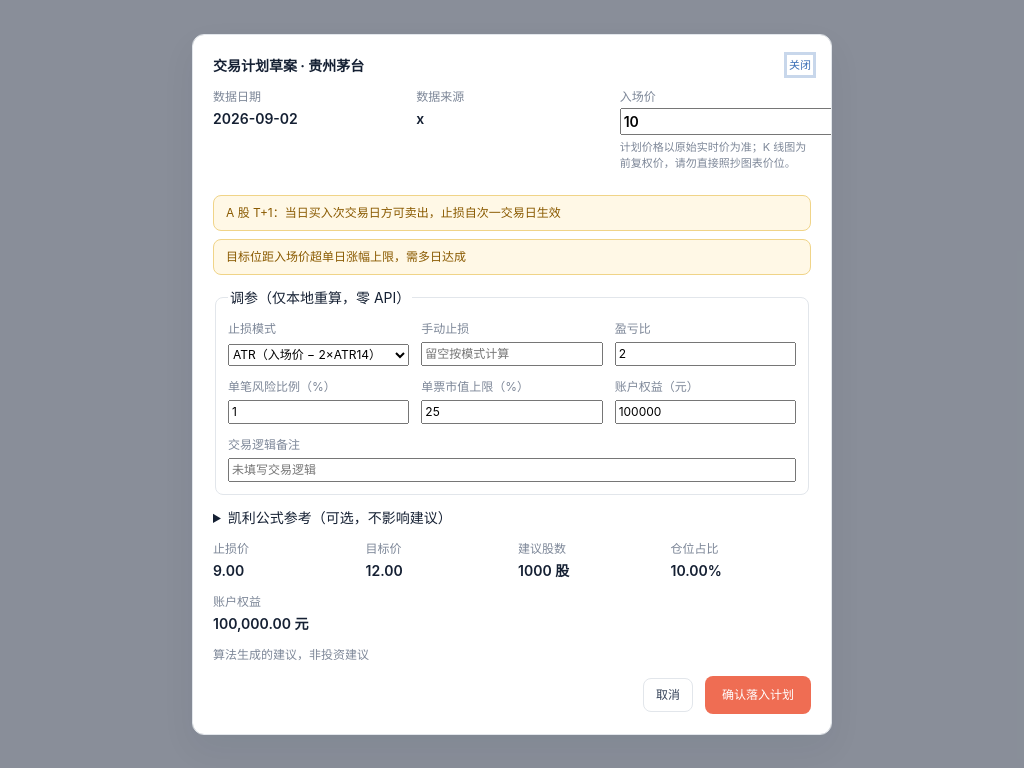
Scenario: PlanDraftDialog › shares=0 时确认按钮置灰并显示资金不足提示
The width and height of the screenshot is (1024, 768).
Replace the text in the number field with test id "equity-input" with "1000" at point(705, 412), box [615, 400, 796, 424]
(page scrolled)
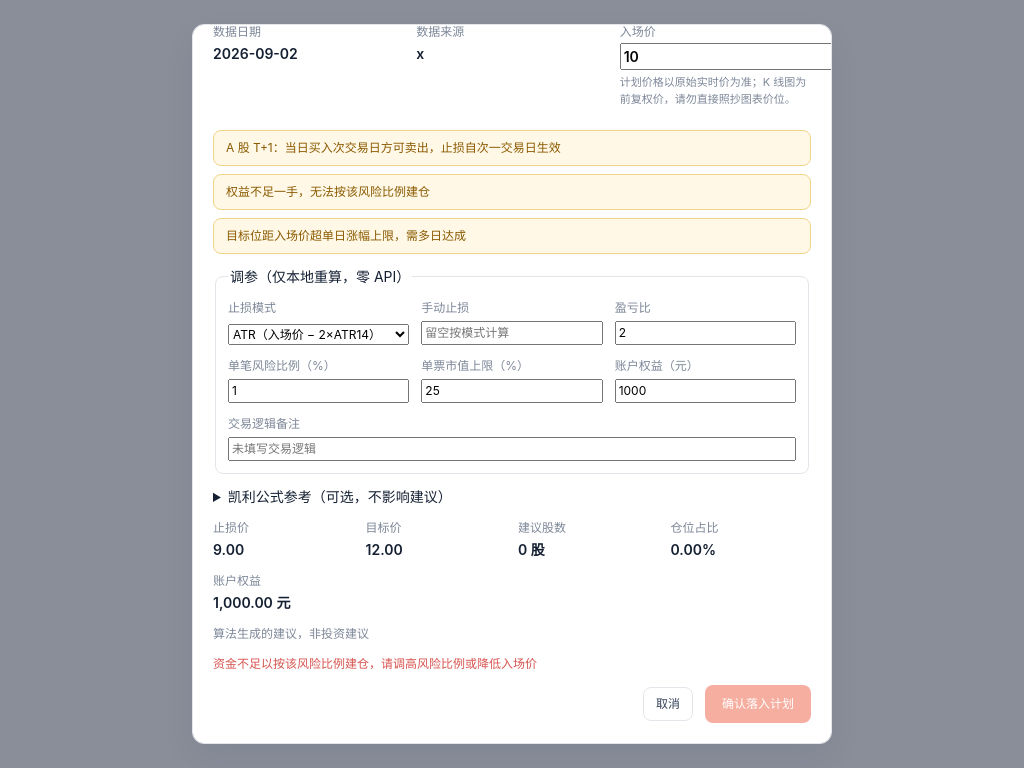
Check: the button with test id "confirm" is disabled, box [705, 685, 811, 723]
Check: the text "资金不足以按该风险比例建仓，请调高风险比例或降低入场价" is shown, box [213, 656, 537, 671]
